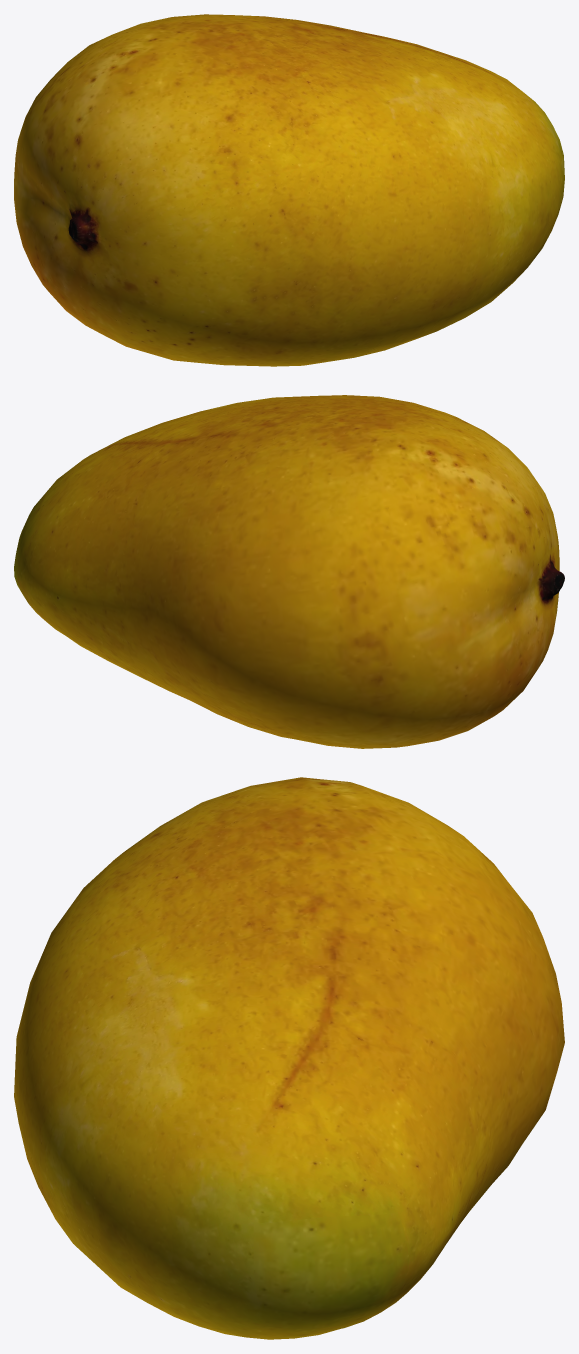
The model's file is realmango.glb.
The picture shows the model from 3 angles, top to bottom: view 1: azimuth 30°, elevation 25°; view 2: azimuth 150°, elevation 25°; view 3: azimuth 270°, elevation 25°; orthographic projection. The views are drawn at different scales.
Parts seen in each view (by area): view 1: Mango; view 2: Mango; view 3: Mango.
Boxes of the visible parts, bbox=[...] form: Mango: bbox=[14, 14, 564, 366]; Mango: bbox=[14, 395, 564, 748]; Mango: bbox=[14, 777, 564, 1339].
Bounding box in the file's own units: 0.12 × 0.0707 × 0.09.
1 material, 1 textured.
